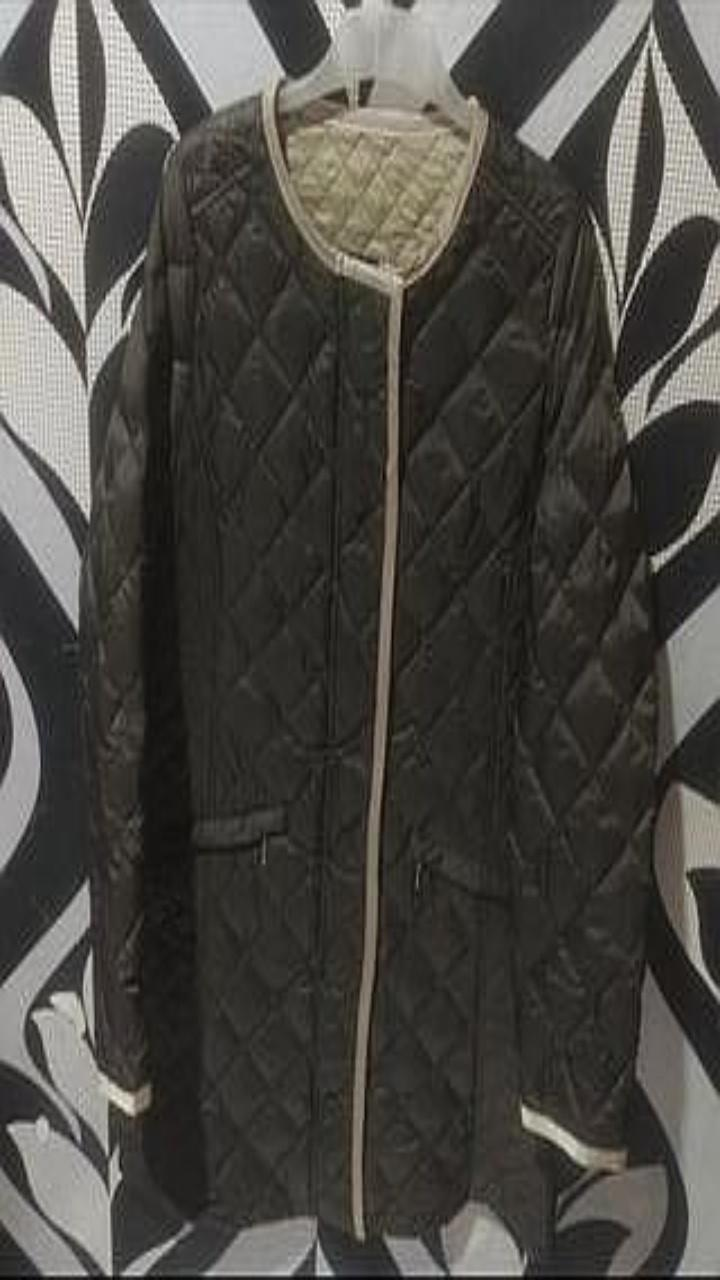Sports_Jacket: (80, 85, 656, 1254)
